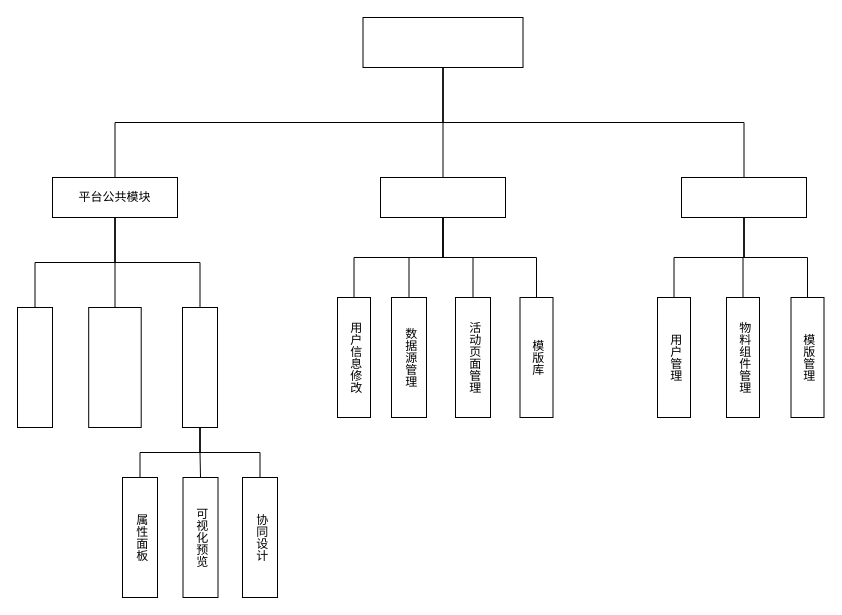
The diagram is 842 pixels wide and 615 high, and some of its shapes have lost their labels. The shapes that lost their labels are listed below. From the top down, each one's centre as x and y in pixels, then its label:
the point at 442,42: 活动页面搭建平台
the point at 443,197: 用户模块
the point at 743,197: 后台管理模块
the point at 34,367: 登录
the point at 114,367: Schema 生成器
the point at 200,367: 活动页面设计
